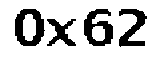0: (11, 4, 46, 52)
2: (117, 7, 151, 49)
6: (82, 6, 115, 51)
x: (47, 15, 80, 50)
